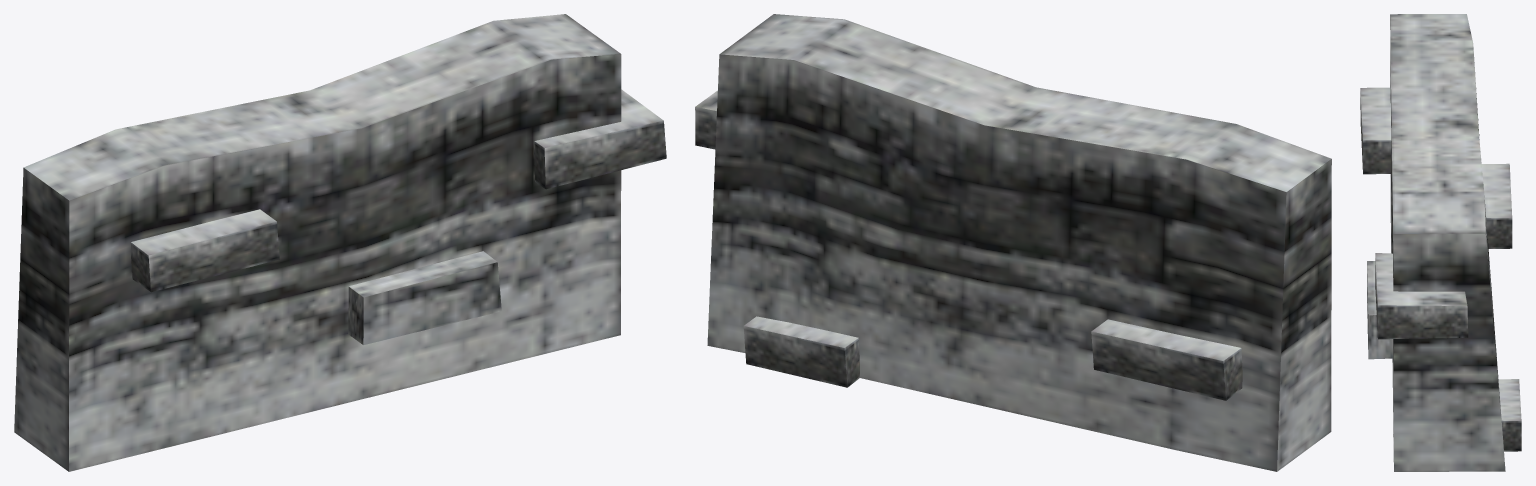
File: S_Build_Snowland013.FBX
The picture shows the model from 3 angles, left to right: view 1: azimuth 30°, elevation 25°; view 2: azimuth 150°, elevation 25°; view 3: azimuth 270°, elevation 25°; orthographic projection. The views are drawn at different scales.
Visible parts, largest first — view 1: S_Build_Snowland013; view 2: S_Build_Snowland013; view 3: S_Build_Snowland013.
Boxes of the visible parts, box(x1,y1,x2,y2) form: S_Build_Snowland013: box(14, 14, 666, 471); S_Build_Snowland013: box(695, 14, 1331, 471); S_Build_Snowland013: box(1360, 14, 1521, 471).
Bounding box in the file's own units: 375 × 105 × 178.
